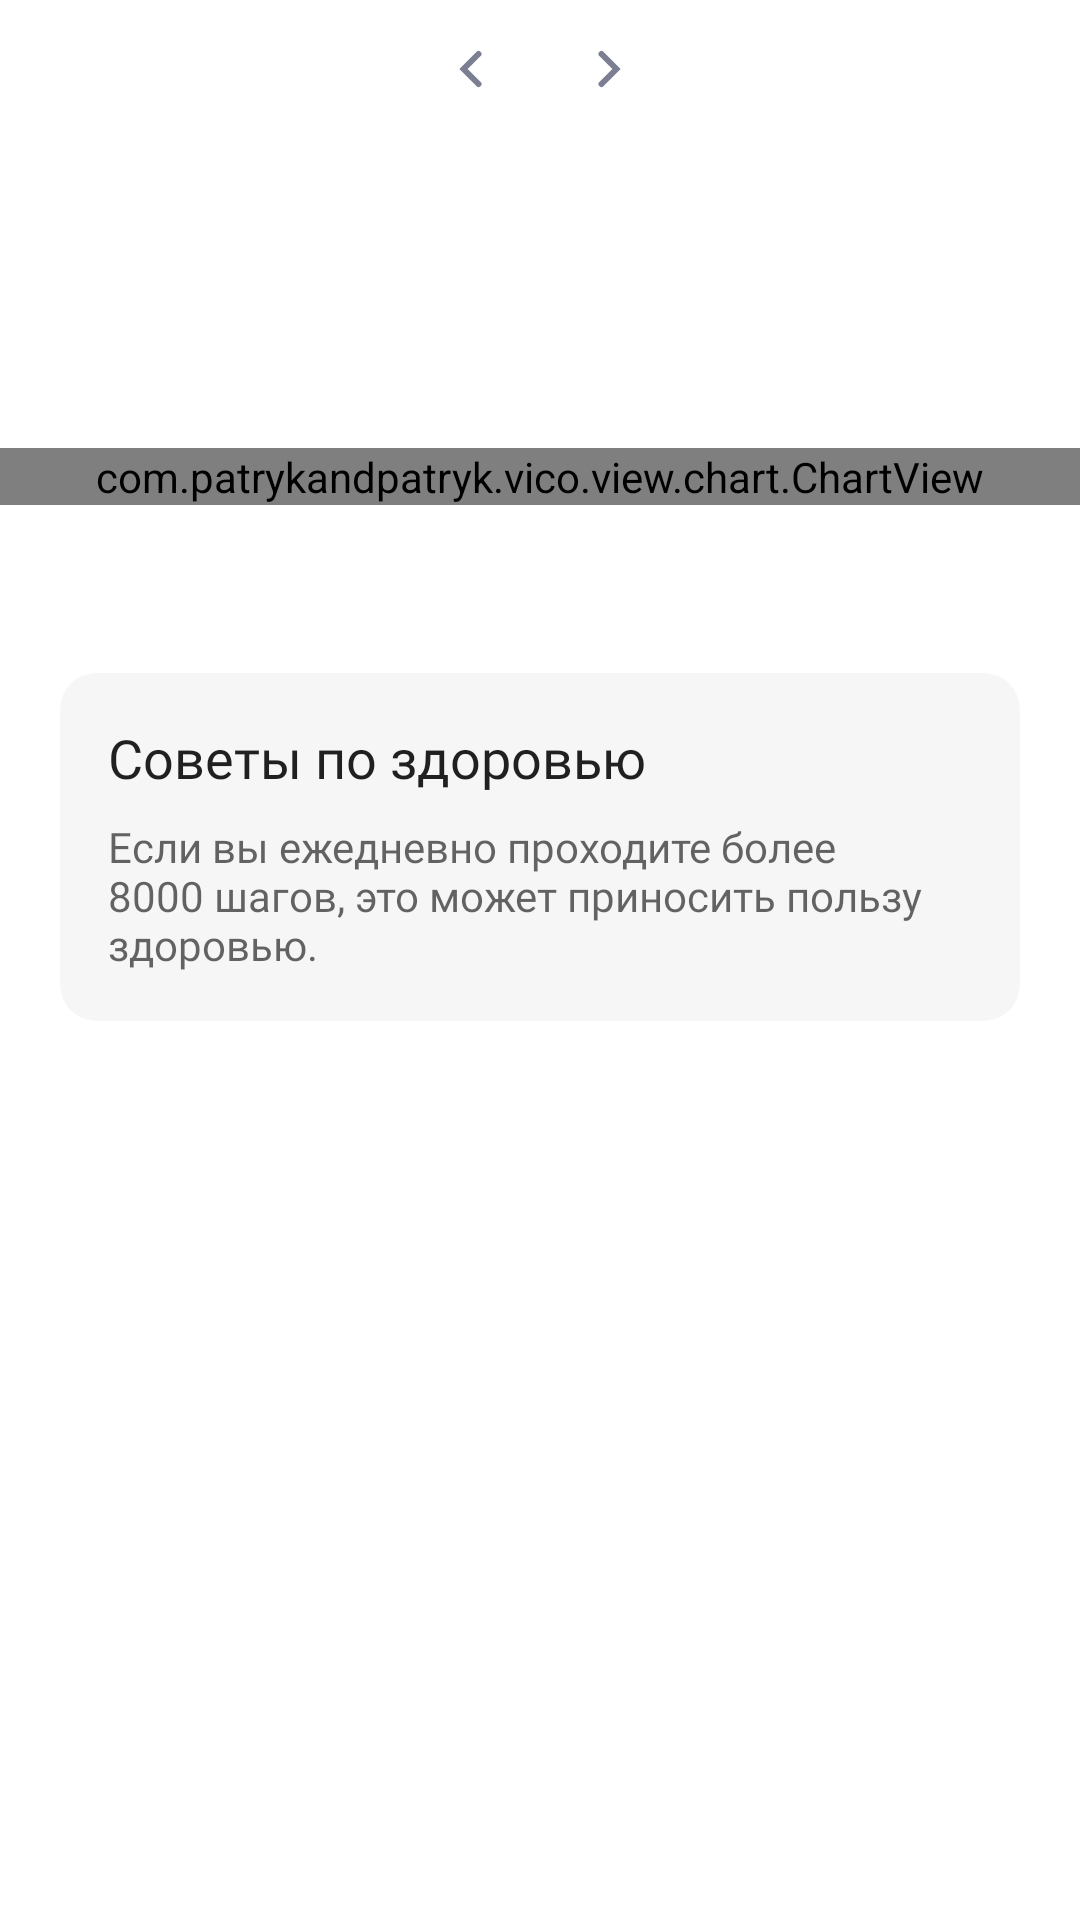

Named icons in this screenshot (1080px x 1920px) and their centers, (x,y):
arrow left: (470,69)
arrow right: (609,69)
